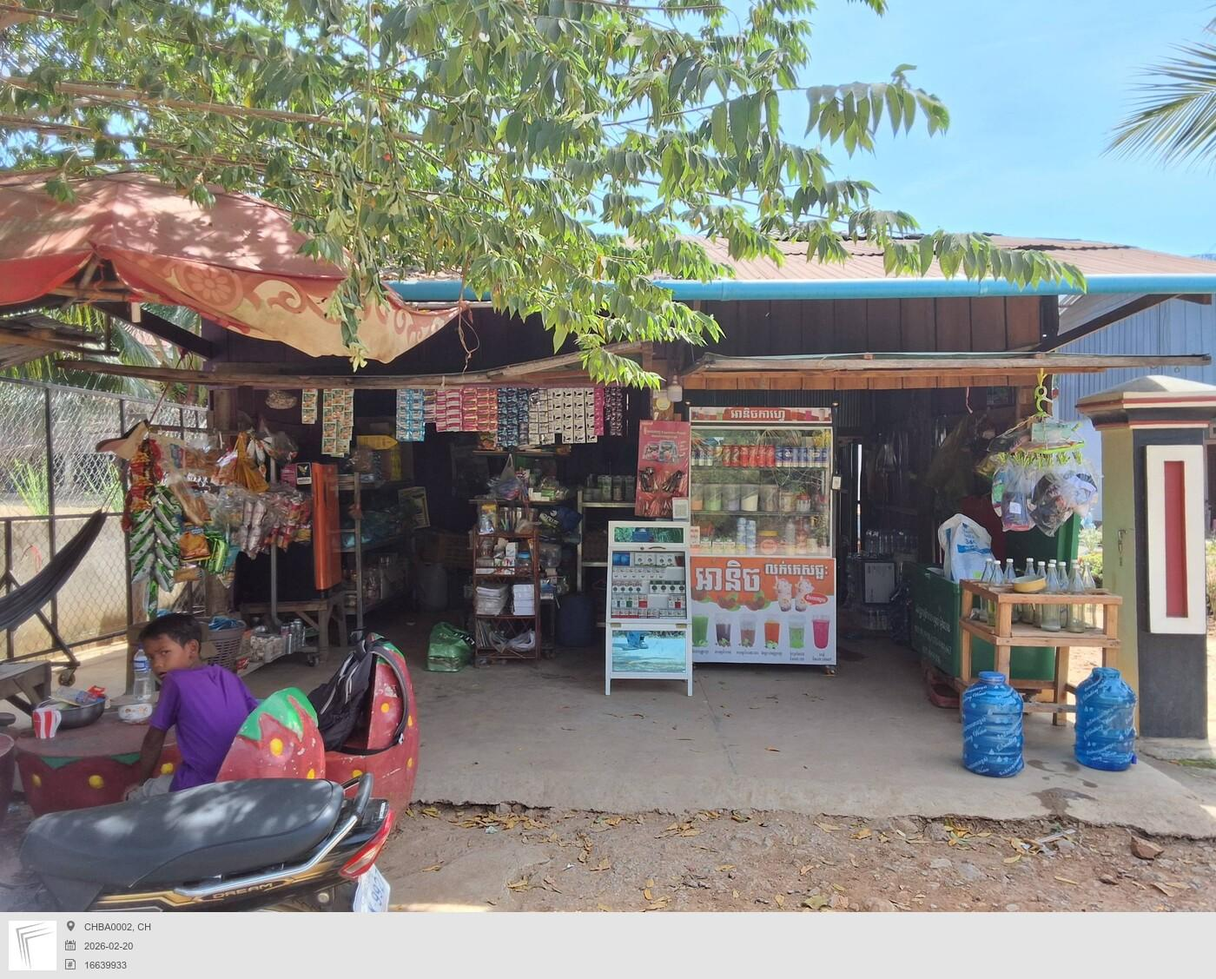cigarette_pack: (1044, 560, 1068, 633), (633, 553, 646, 569), (653, 566, 665, 582), (638, 593, 650, 608), (664, 551, 675, 567), (676, 594, 688, 608), (648, 580, 659, 594), (629, 594, 640, 608), (656, 552, 665, 567), (630, 565, 639, 580), (612, 552, 621, 566), (658, 581, 667, 595), (668, 595, 677, 609), (619, 609, 631, 619), (646, 553, 655, 566), (621, 568, 630, 581), (620, 581, 629, 594), (668, 581, 677, 594), (678, 581, 686, 595), (621, 594, 629, 608), (638, 567, 647, 579), (621, 552, 629, 565), (613, 569, 621, 582), (612, 582, 620, 595), (628, 581, 636, 594), (635, 581, 643, 594), (612, 595, 620, 608), (638, 609, 649, 618), (647, 567, 654, 581), (612, 609, 621, 619), (648, 609, 658, 618), (677, 610, 686, 619), (668, 608, 676, 618), (630, 609, 638, 618), (659, 609, 665, 619)
